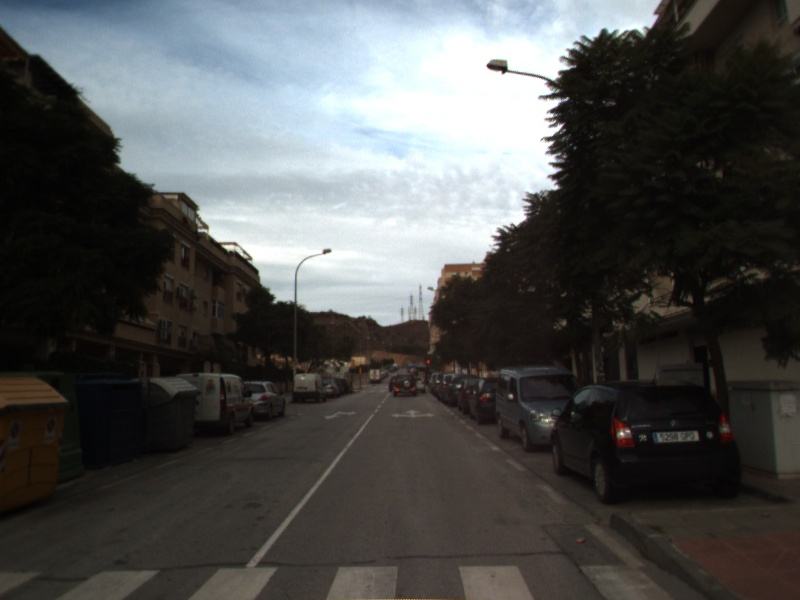STRAIGHT_LEFT_RIGHT: (389, 406, 437, 420)
